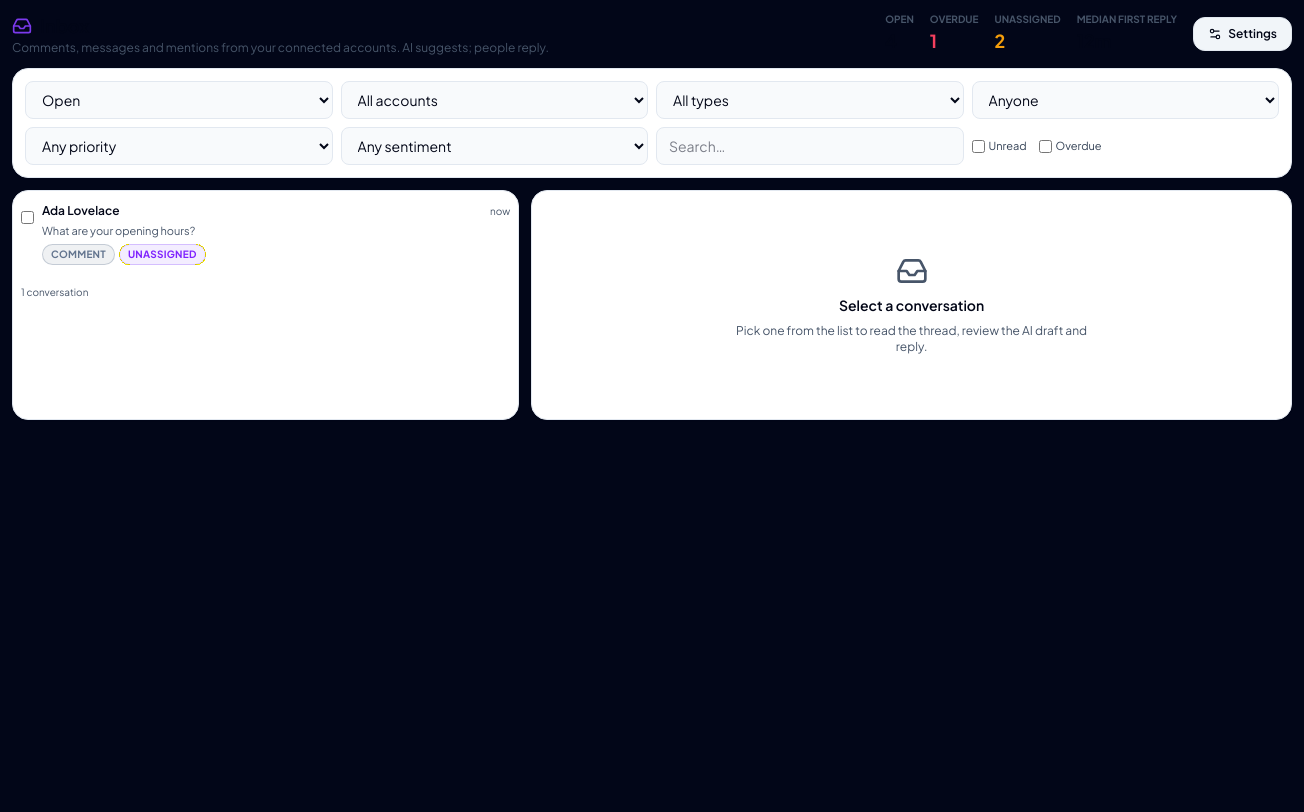
Scenario: conversation view › flags AI-unavailable triage and human-review items
Click the button "Ada Lovelace": click(81, 210) [42,199,510,268]
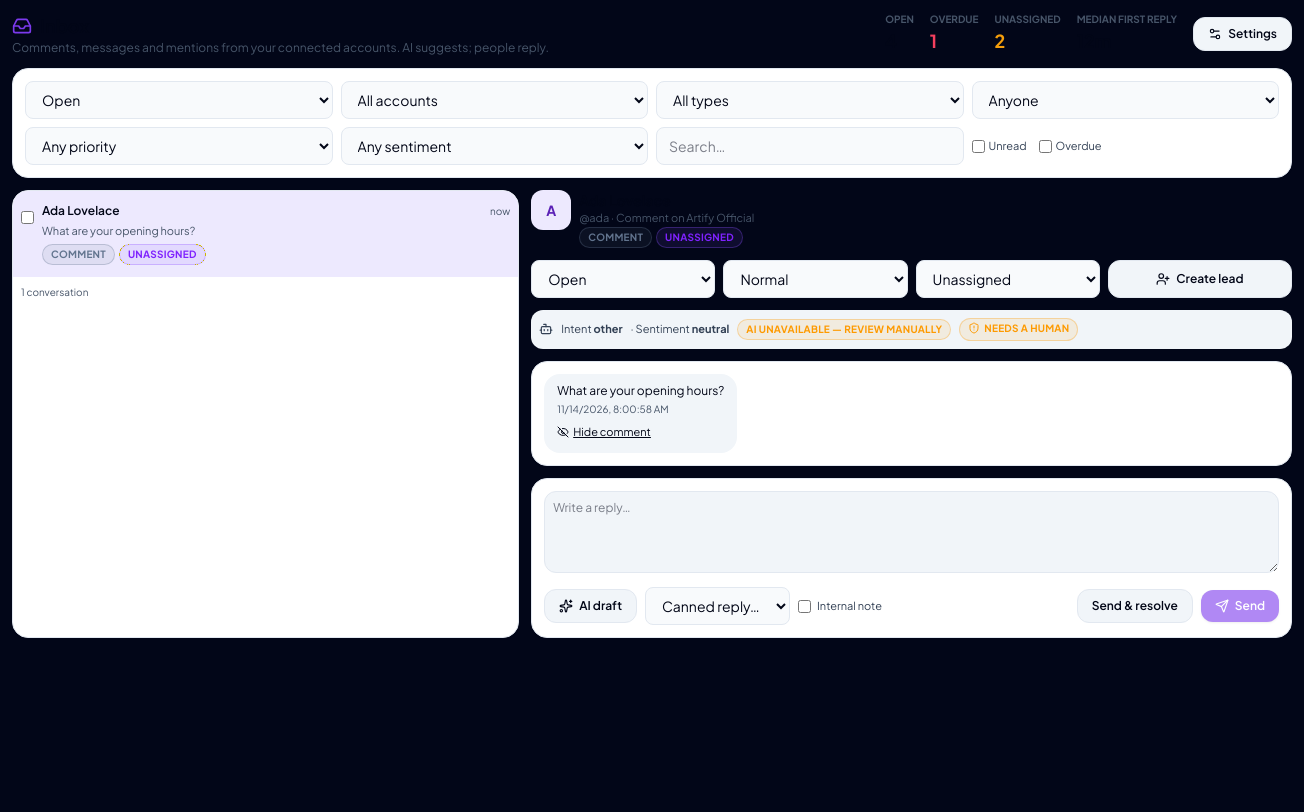
Now the list named "Conversation thread" is shown, box [544,374,737,453]
Now the text "AI unavailable — review manually" is shown, box [737,319,951,340]
Now the text "Needs a human" is shown, box [968,320,1069,336]
